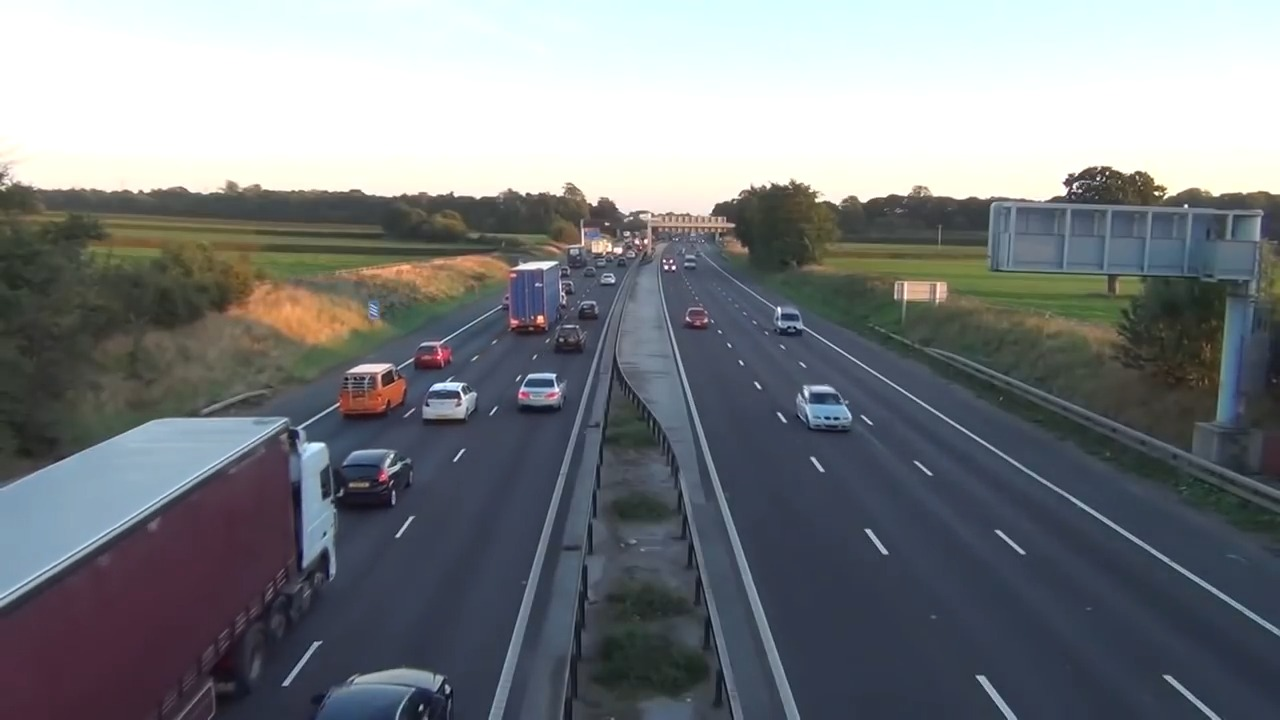truck: (506, 259, 569, 332)
